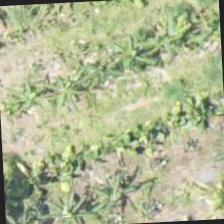Kelapa_Sawit: (179, 153, 223, 220)
